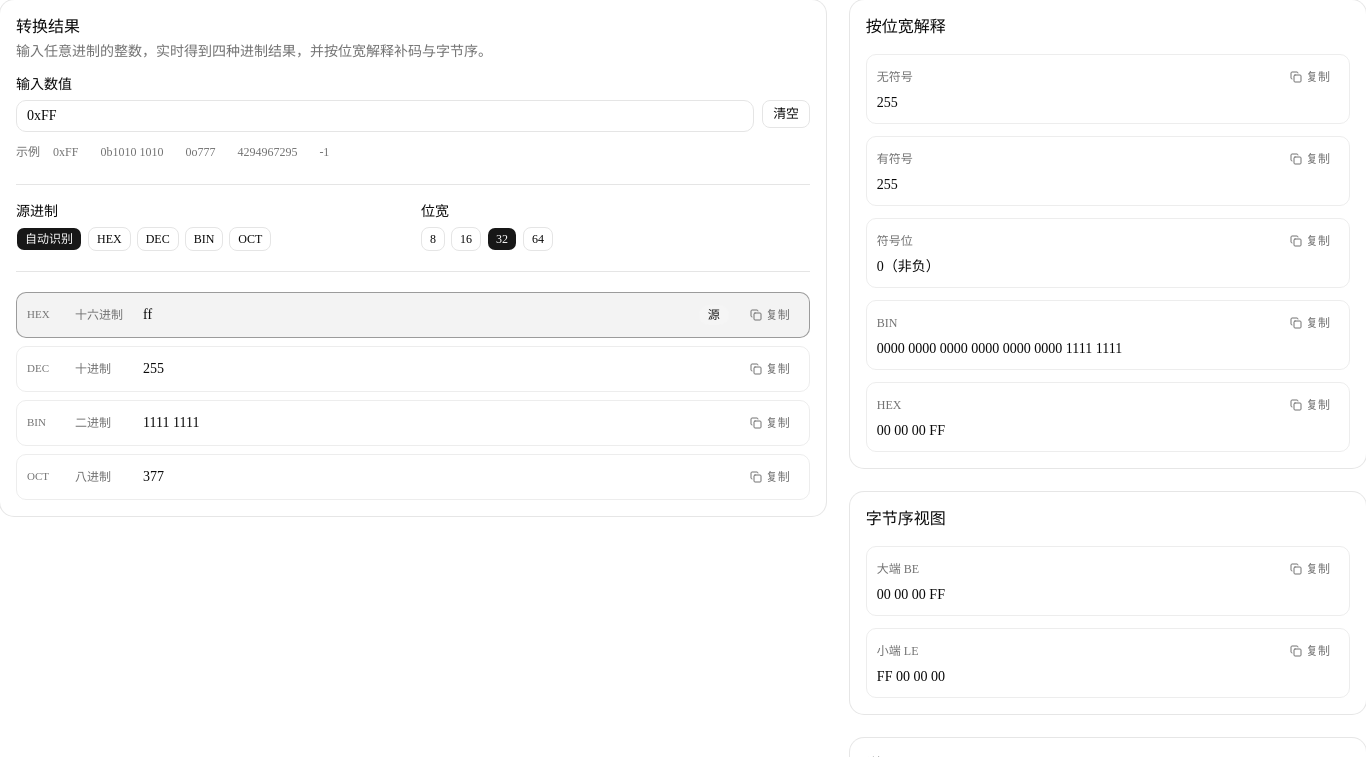
it: baseConverter · 自动识别 › 大数不丢精度（2^64-1 不会变成浮点近似值）
The width and height of the screenshot is (1366, 757).
Replace the text in the field with id "radix-input" with "18446744073709551615" at (385, 116), box [16, 100, 754, 132]
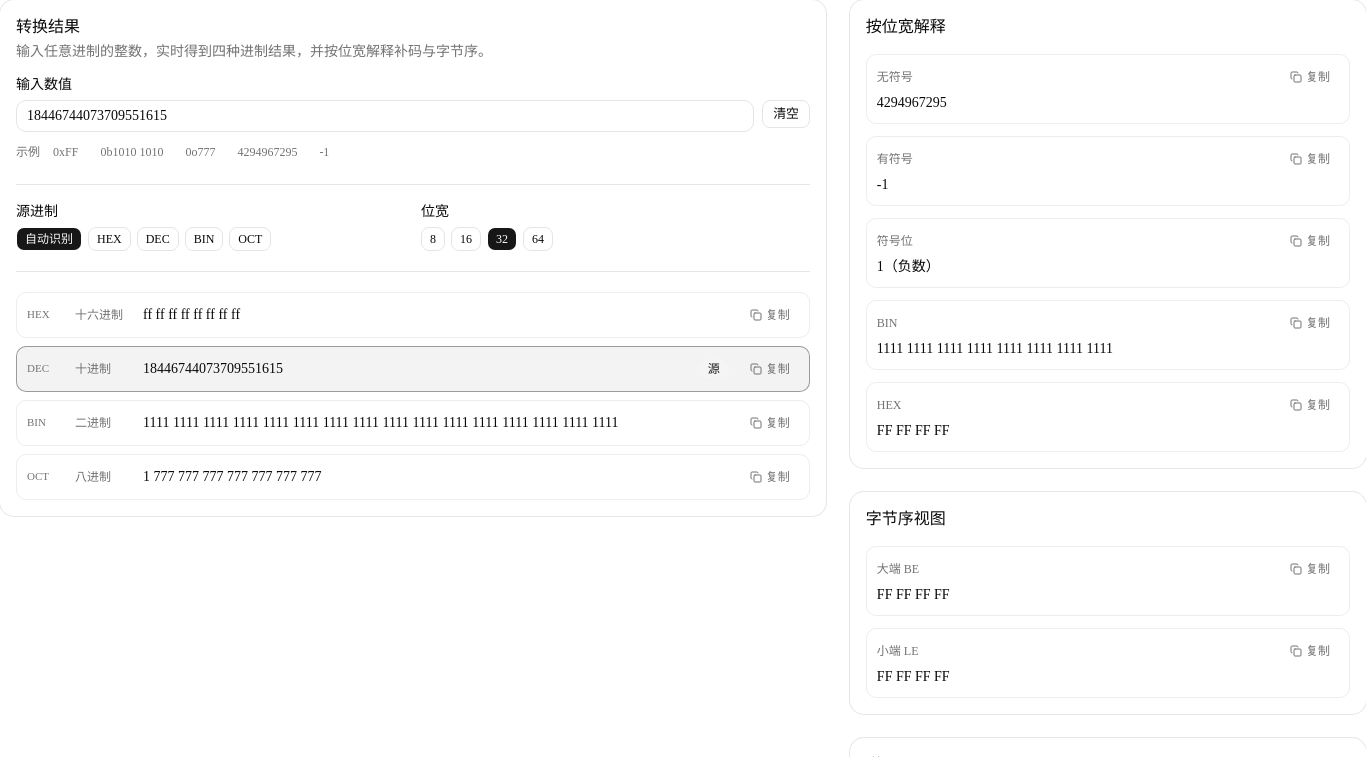
Now the text "18446744073709551615" is shown, box [143, 361, 283, 376]
